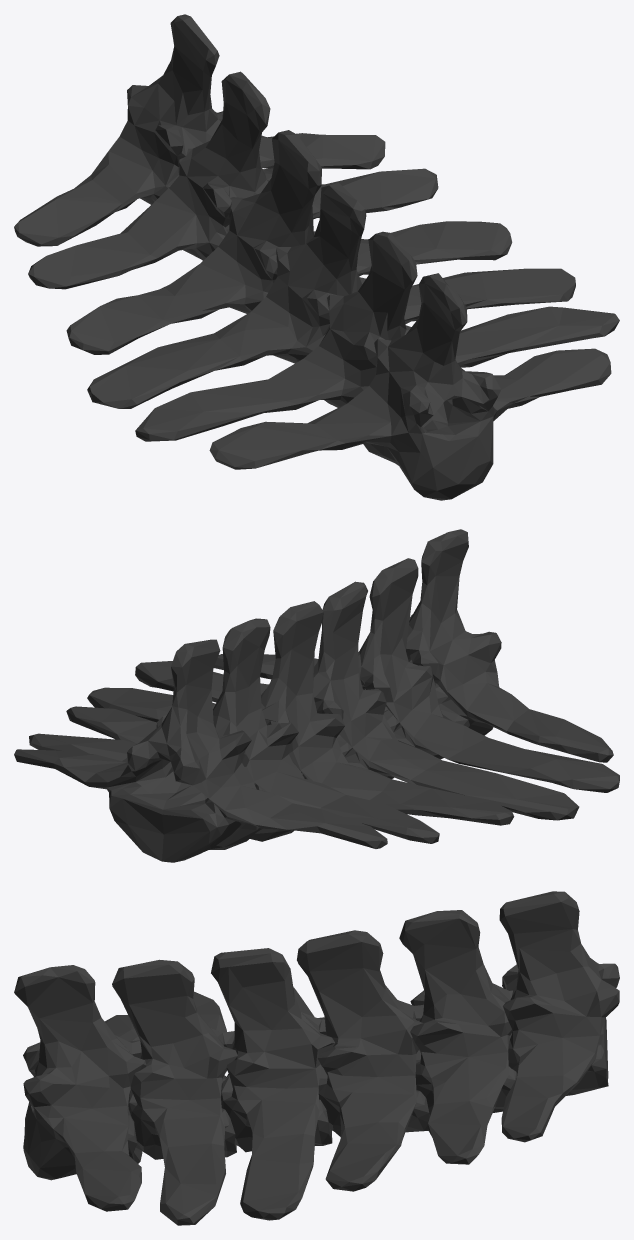
The model's file is skel_spine_lumbar.glb.
3 renders of one model, top to bottom at view 1: azimuth 30°, elevation 25°; view 2: azimuth 150°, elevation 25°; view 3: azimuth 270°, elevation 25°, orthographic. The views are drawn at different scales.
Parts seen in each view (by area): view 1: skel_spine_lumbar; view 2: skel_spine_lumbar; view 3: skel_spine_lumbar.
Part boxes in pixels (x1,y1,x2,y2): skel_spine_lumbar: (14, 14, 619, 500); skel_spine_lumbar: (14, 529, 619, 862); skel_spine_lumbar: (14, 891, 619, 1225).
Size of the model in its own units: 0.00448 by 0.00259 by 0.005.
1 material, 1 textured.
